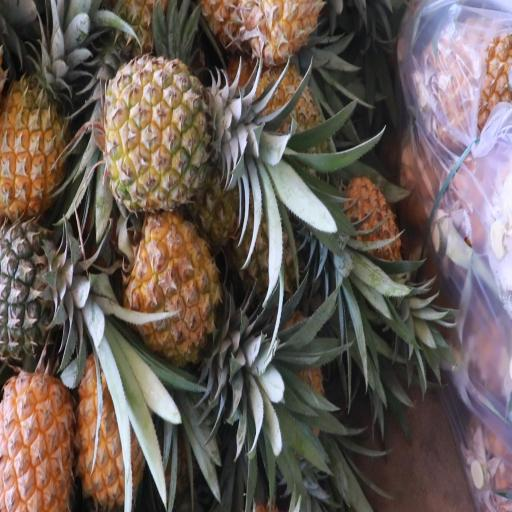Pineapple - v8 v1: (104, 60, 268, 210), (122, 196, 227, 379), (0, 33, 86, 216), (0, 335, 82, 512), (77, 348, 149, 512)
